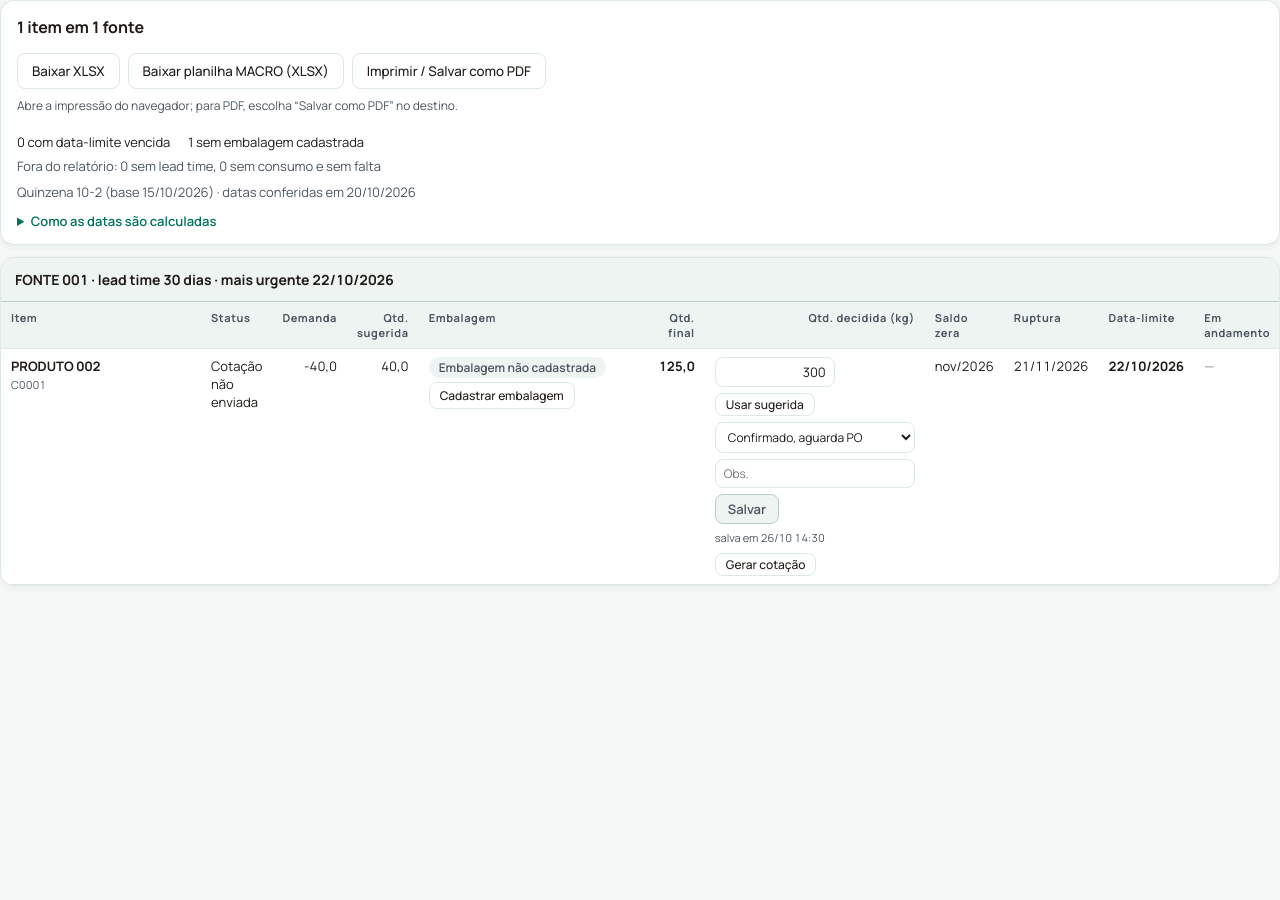
it: ForecastGerarCotacao (botao da linha) › salvar a decisao 0 na mesma linha desabilita o botao sem recarregar
Replace the text in the field named "Qtd. decidida (kg) de PRODUTO 002" with "0": (775, 372) [715,357,835,387]
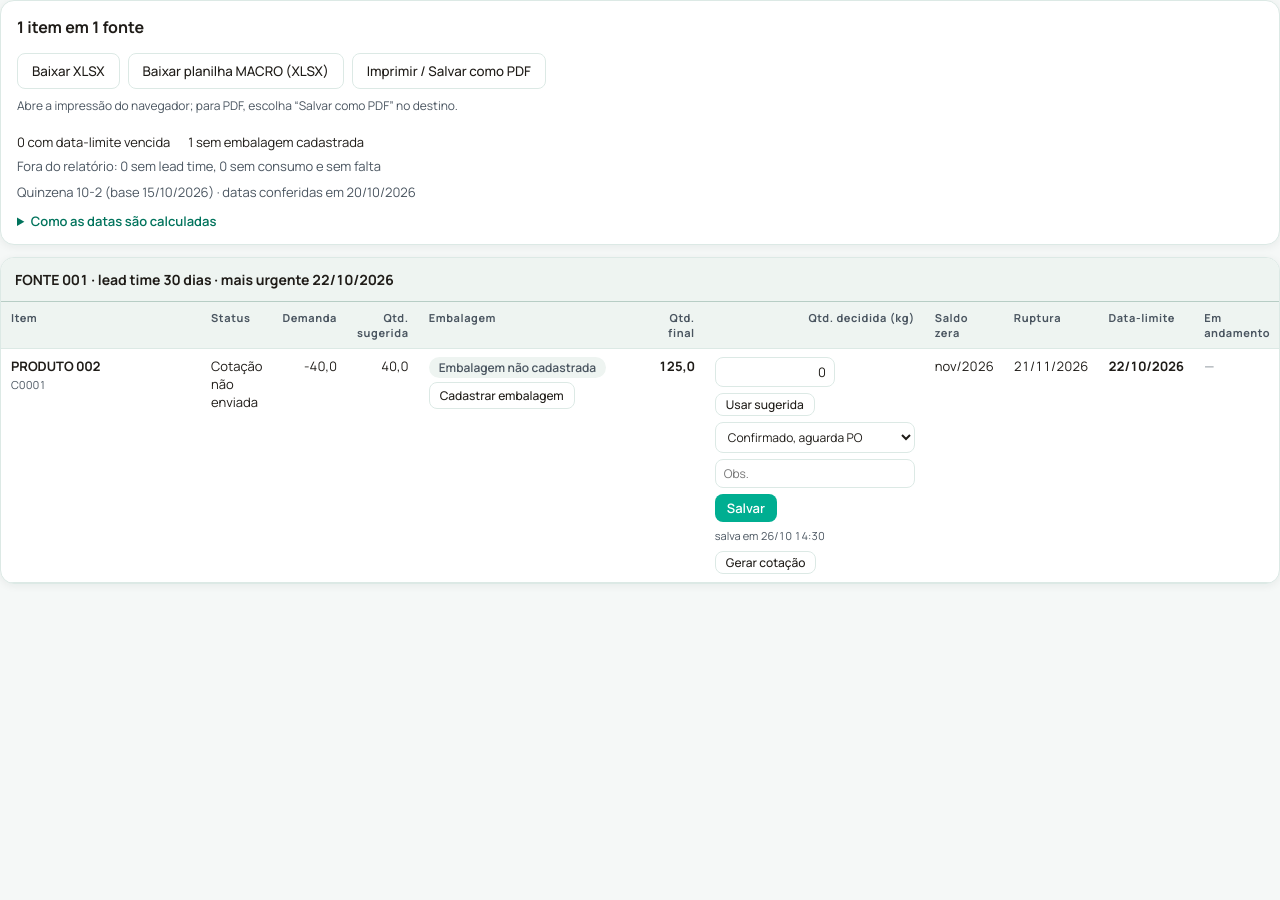
Click the button with aria-label "Salvar decisão de PRODUTO 002": (746, 508) [715,494,777,522]
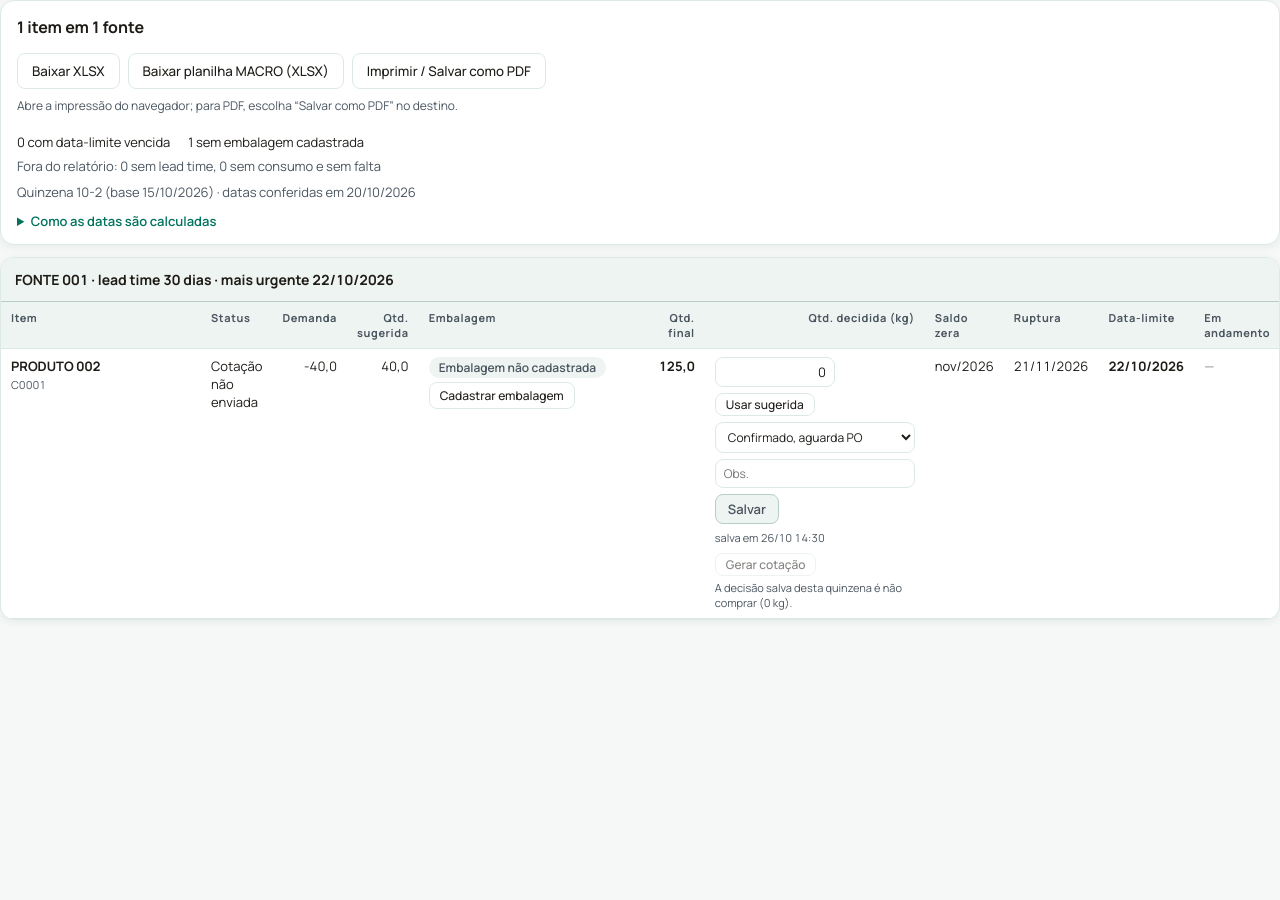
Expected: the text "A decisão salva desta quinzena é não comprar (0 kg)." is shown, [715,580,915,610]
